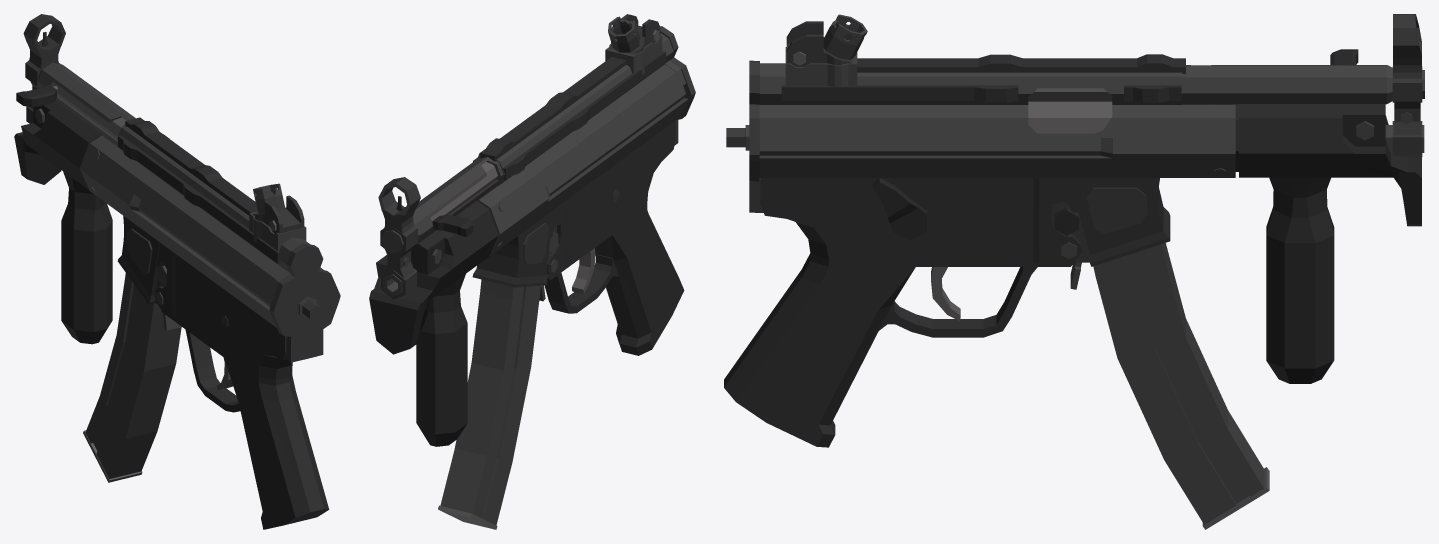
3 renders of one model, left to right at view 1: azimuth 30°, elevation 25°; view 2: azimuth 150°, elevation 25°; view 3: azimuth 270°, elevation 25°, orthographic. The views are drawn at different scales.
Visible parts, largest first — view 1: Body, Magazine, Bolt; view 2: Body, Magazine, Bolt; view 3: Body, Magazine.
Part boxes in pixels (<box>): Body: <box>14,14,340,529</box>; Magazine: <box>85,273,181,478</box>; Bolt: <box>16,85,56,106</box>; Body: <box>369,14,695,529</box>; Magazine: <box>440,279,540,525</box>; Bolt: <box>432,214,473,237</box>; Body: <box>724,14,1424,529</box>; Magazine: <box>1093,243,1263,524</box>.
Size of the model in its own units: 0.0545 by 0.2584 by 0.325.
1 material, 1 textured.
